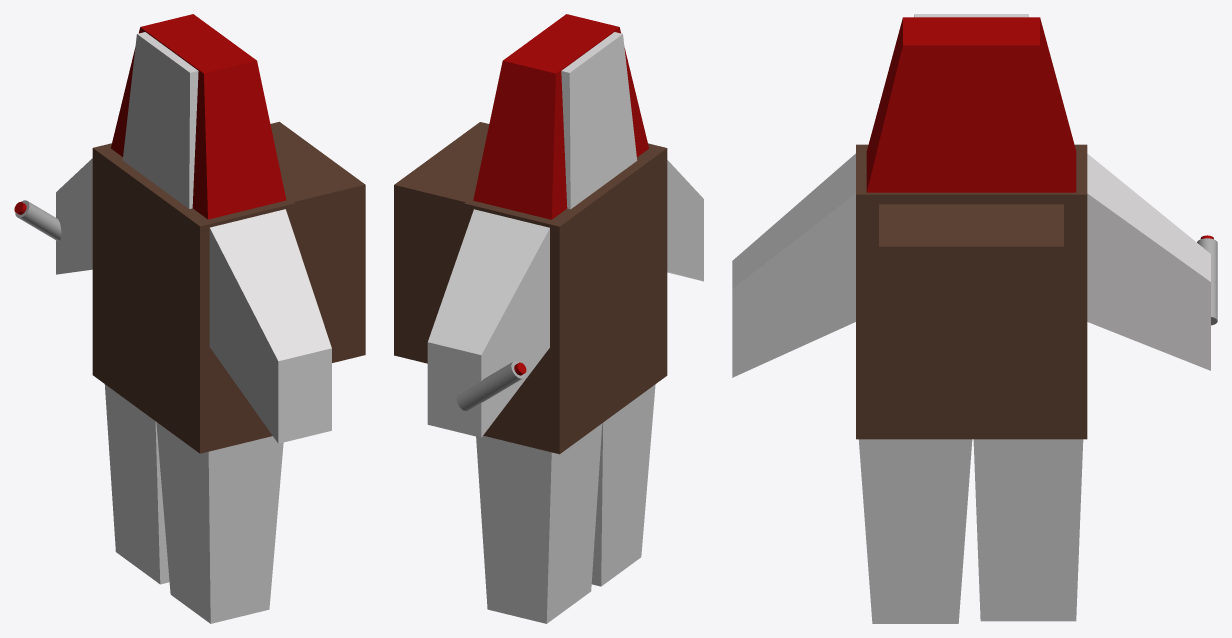
The model's file is Achmed.fbx.
3 views of the same model, side by side, from view 1: azimuth 30°, elevation 25°; view 2: azimuth 150°, elevation 25°; view 3: azimuth 270°, elevation 25° (orthographic). The views are drawn at different scales.
Parts seen in each view (by area): view 1: pCube1, pCube4, pCube3, pCube2, pCylinder1; view 2: pCube1, pCube4, pCube3, pCube2, pCylinder1; view 3: pCube1, pCube2, pCube3, pCube4, pCylinder1.
Boxes of the visible parts, x1=… form: pCube1: x1=56, y1=32, x2=331, y2=623; pCube4: x1=92, y1=143, x2=295, y2=453; pCube3: x1=111, y1=14, x2=286, y2=219; pCube2: x1=270, y1=121, x2=365, y2=362; pCylinder1: x1=15, y1=200, x2=61, y2=241; pCube1: x1=427, y1=32, x2=703, y2=623; pCube4: x1=464, y1=143, x2=667, y2=454; pCube3: x1=473, y1=14, x2=648, y2=219; pCube2: x1=394, y1=122, x2=489, y2=363; pCylinder1: x1=456, y1=361, x2=525, y2=411; pCube1: x1=732, y1=14, x2=1210, y2=623; pCube2: x1=879, y1=204, x2=1063, y2=430; pCube3: x1=866, y1=17, x2=1076, y2=192; pCube4: x1=856, y1=144, x2=1087, y2=439; pCylinder1: x1=1197, y1=238, x2=1217, y2=325.
Bounding box in the file's own units: 0.7925 × 2.06 × 1.57.
